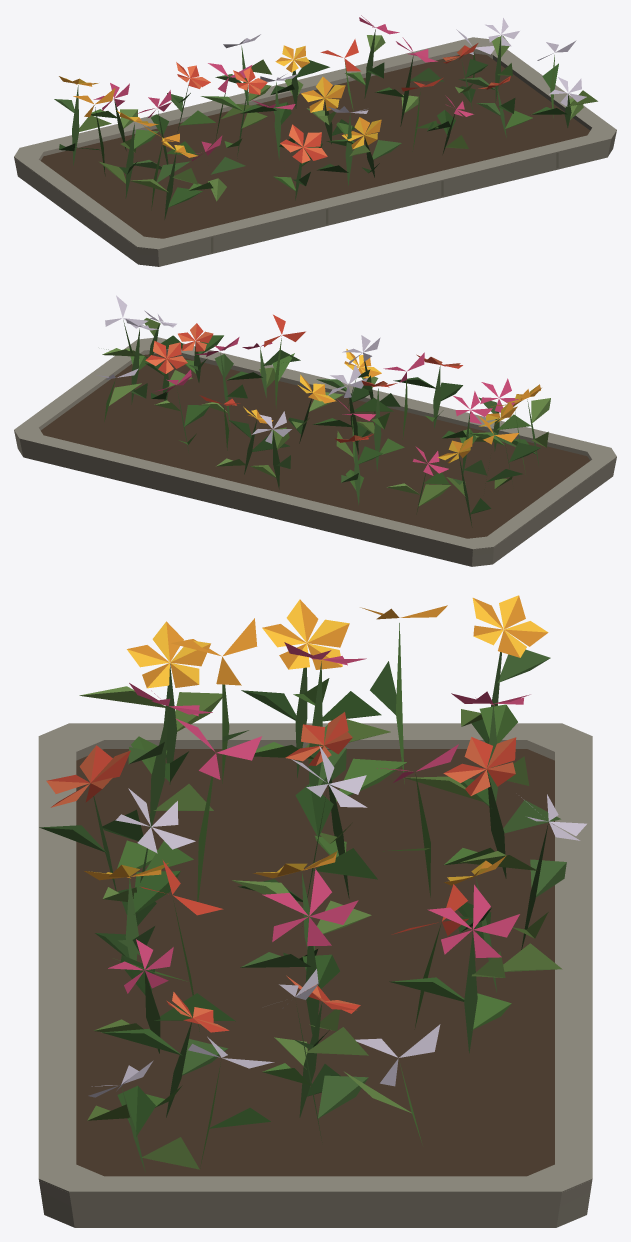
File: sg-flower-bed.glb
3 views of the same model, one above another, from view 1: azimuth 30°, elevation 25°; view 2: azimuth 150°, elevation 25°; view 3: azimuth 270°, elevation 25° (orthographic). The views are drawn at different scales.
Visible parts, largest first — view 1: lod1_soil, lod0_planting, lod1_edging, lod0_edging, lod1_planting; view 2: lod1_soil, lod1_edging, lod0_planting, lod0_edging, lod1_planting; view 3: lod1_soil, lod0_planting, lod1_edging, lod0_edging, lod1_planting.
Part boxes in pixels (box(x1,y1,x2,y2)): lod1_soil: box(41, 53, 589, 238); lod0_planting: box(54, 15, 597, 219); lod1_edging: box(14, 37, 616, 266); lod0_edging: box(14, 48, 616, 264); lod1_planting: box(72, 29, 576, 210); lod1_soil: box(41, 353, 589, 538); lod1_edging: box(14, 337, 616, 566); lod0_planting: box(102, 310, 550, 527); lod0_edging: box(14, 349, 616, 563); lod1_planting: box(96, 295, 530, 489); lod1_soil: box(76, 749, 554, 1176); lod0_planting: box(39, 595, 586, 1172); lod1_edging: box(38, 723, 592, 1227); lod0_edging: box(39, 738, 592, 1227); lod1_planting: box(113, 605, 468, 1168).
Size of the model in its own units: 2 by 0.42 by 1.
